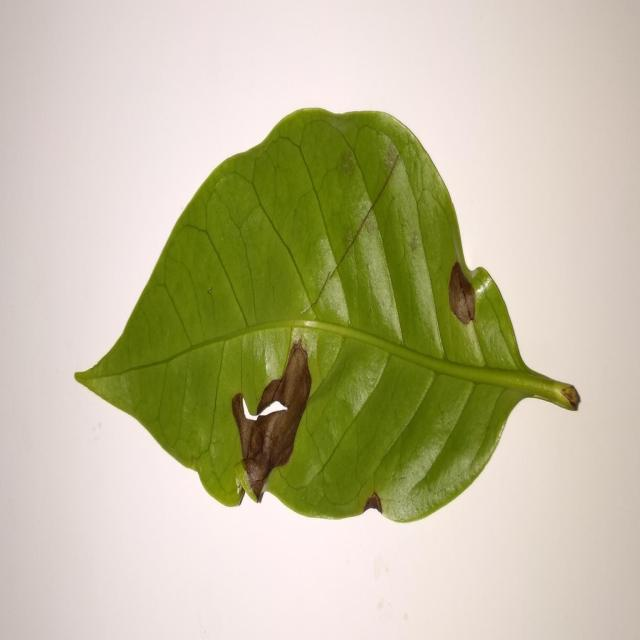Enfermedad-Antracnosis: (72, 109, 581, 526)
